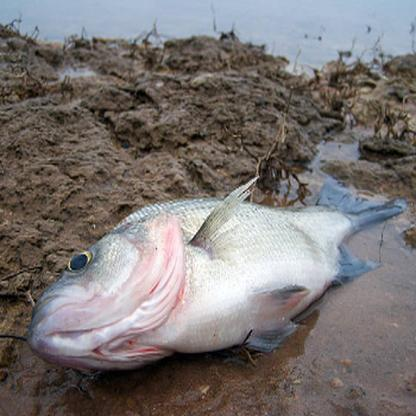deceased fish: (28, 172, 408, 373)
